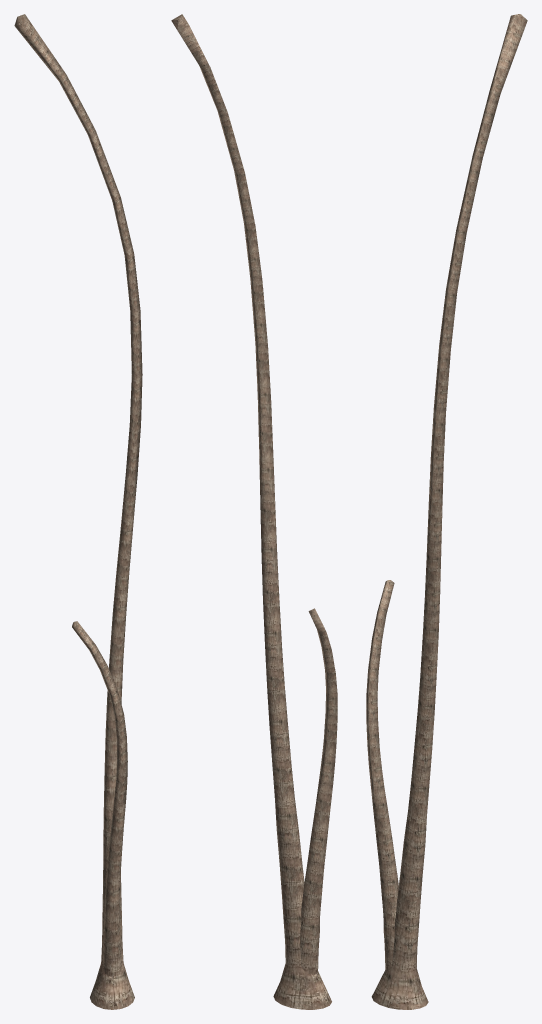
Rendered from m_palm_p2_21_trunk_0.glb.
The picture shows the model from 3 angles, left to right: view 1: azimuth 90°, elevation 25°; view 2: azimuth 150°, elevation 25°; view 3: azimuth 330°, elevation 25°; orthographic projection. The views are drawn at different scales.
Visible parts, largest first — view 1: M_Palm_P2_21_Trunk_0; view 2: M_Palm_P2_21_Trunk_0; view 3: M_Palm_P2_21_Trunk_0.
Boxes of the visible parts, x1,y1,x2,y2 form: M_Palm_P2_21_Trunk_0: (14, 14, 142, 1009); M_Palm_P2_21_Trunk_0: (171, 14, 337, 1009); M_Palm_P2_21_Trunk_0: (366, 14, 527, 1009).
Size of the model in its own units: 0.9682 by 7.88 by 0.9634.
1 material, 1 textured.
